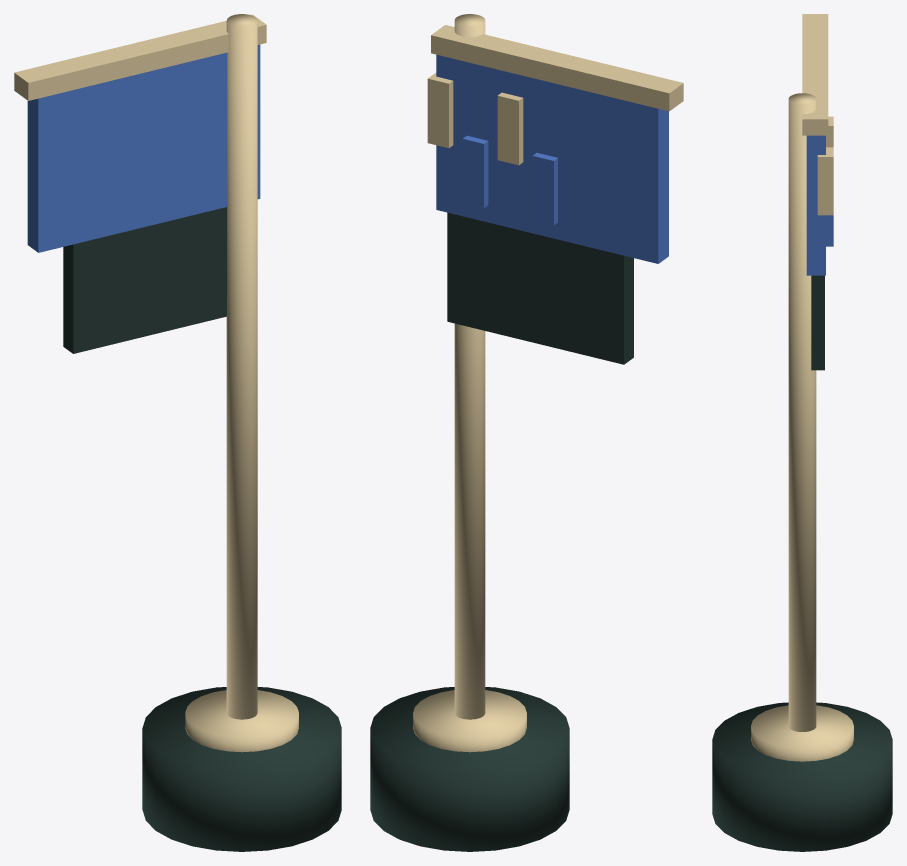
The model's file is fanflag.sapphire-sparks-old.glb.
3 renders of one model, left to right at view 1: azimuth 30°, elevation 25°; view 2: azimuth 150°, elevation 25°; view 3: azimuth 270°, elevation 25°, orthographic. The views are drawn at different scales.
Parts seen in each view (by area): view 1: weighted flag foot; view 2: weighted flag foot; view 3: weighted flag foot.
Boxes of the visible parts, box(x1,y1,x2,y2) form: weighted flag foot: box(14, 14, 341, 851); weighted flag foot: box(370, 14, 683, 851); weighted flag foot: box(712, 14, 892, 851).
Size of the model in its own units: 0.73 by 1.84 by 0.42.
